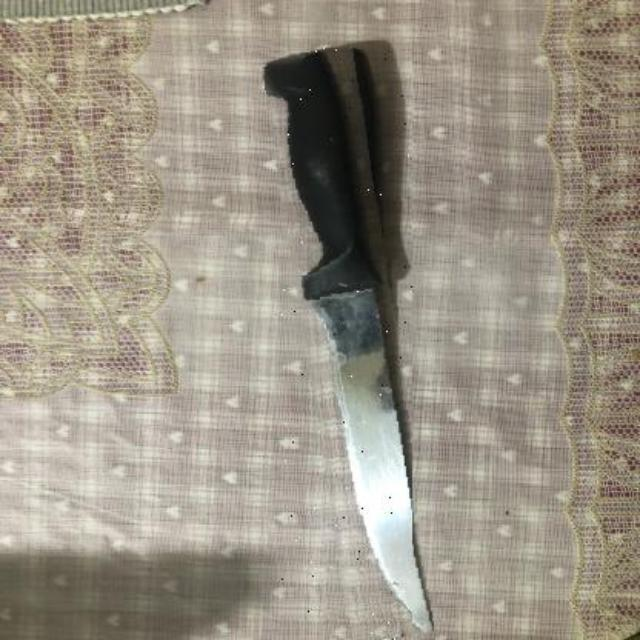Knife: (282, 48, 412, 640)
